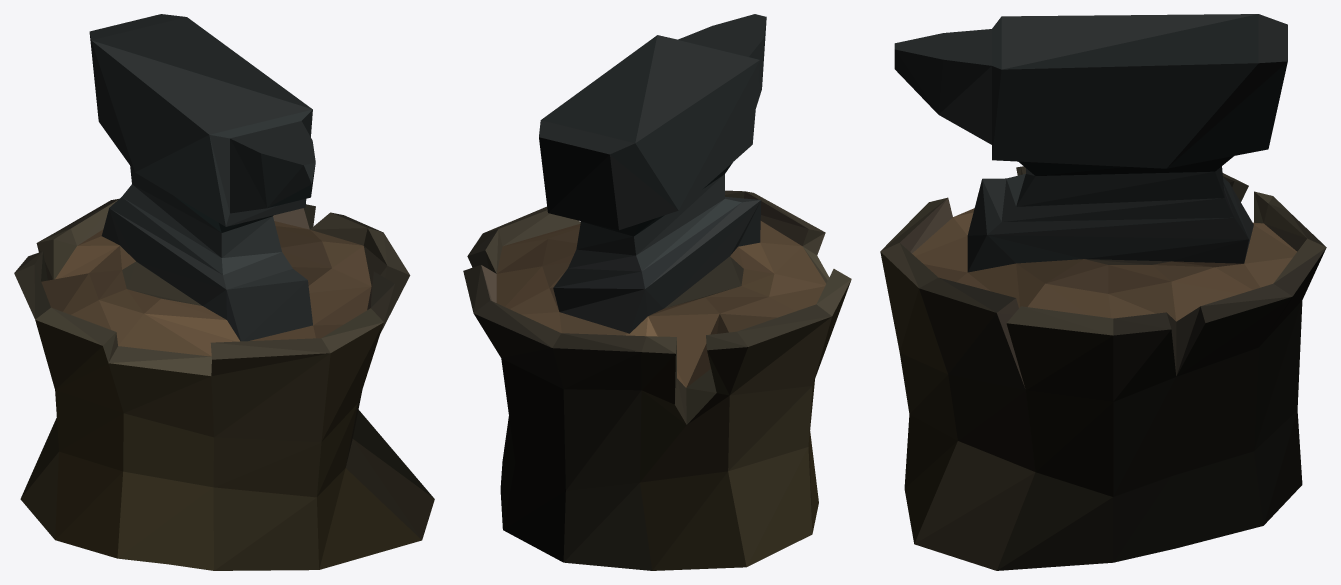
Rendered from anvil.obj.
The picture shows the model from 3 angles, left to right: view 1: azimuth 30°, elevation 25°; view 2: azimuth 150°, elevation 25°; view 3: azimuth 270°, elevation 25°; orthographic projection. The views are drawn at different scales.
Visible parts, largest first — view 1: Object Barbarian anvil 2026-09-13_16-19-20; view 2: Object Barbarian anvil 2026-09-13_16-19-20; view 3: Object Barbarian anvil 2026-09-13_16-19-20.
Boxes of the visible parts, x1,y1,x2,y2 form: Object Barbarian anvil 2026-09-13_16-19-20: [14, 14, 434, 570]; Object Barbarian anvil 2026-09-13_16-19-20: [463, 14, 851, 570]; Object Barbarian anvil 2026-09-13_16-19-20: [880, 14, 1326, 570].
Bounding box in the file's own units: 88 × 101 × 92.
